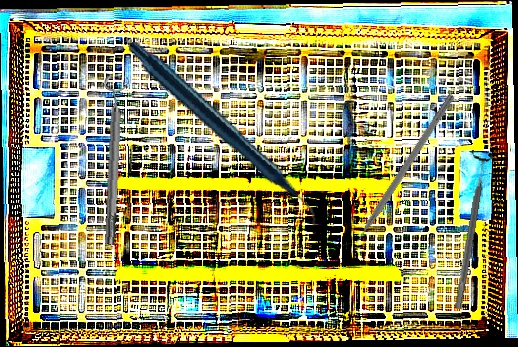Chopper: (338, 87, 456, 255)
Fixation Ring: (445, 150, 496, 311), (95, 75, 131, 246)
Handpiece: (127, 14, 318, 256)
